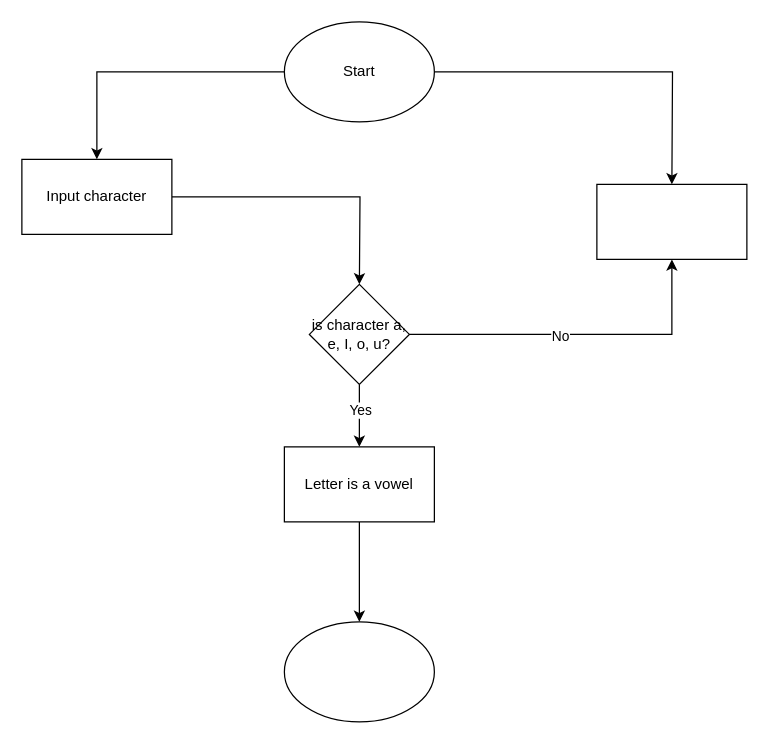
The diagram is 769 pixels wide and 744 high, and some of its shapes have lost their labels. The centre of each missing label's shape, as x and y in pixels:
"Character is not a vowel" goes at point (671, 221).
"End" goes at point (358, 671).
